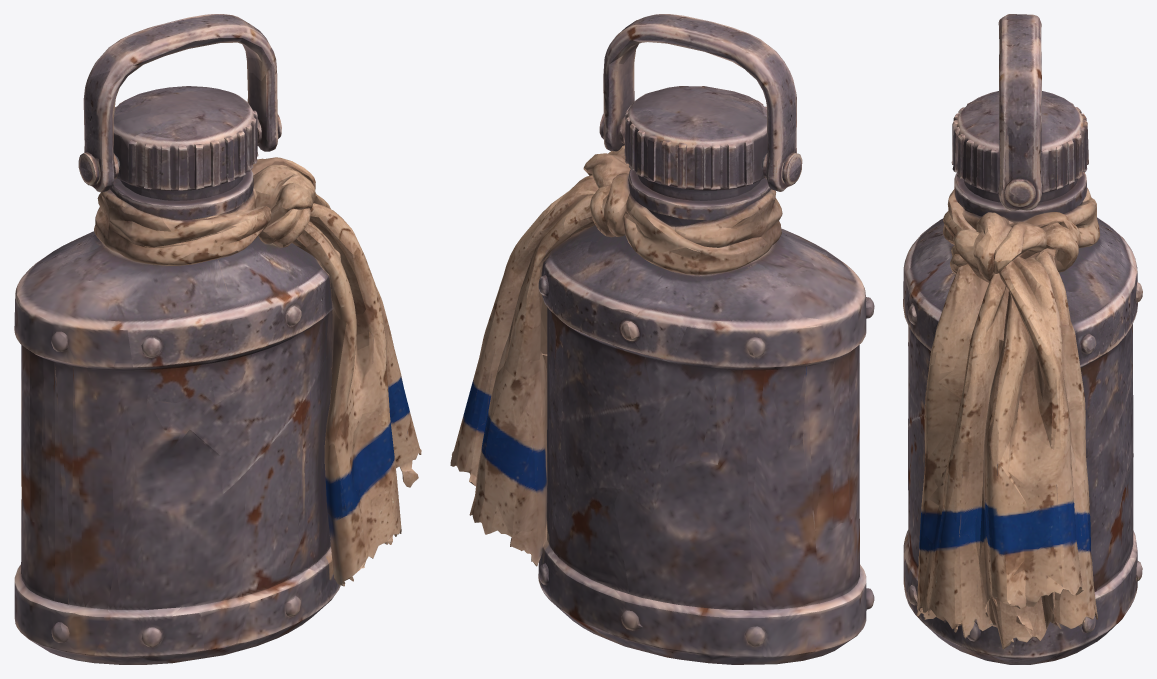
The model's file is canteen.glb.
The picture shows the model from 3 angles, left to right: view 1: azimuth 30°, elevation 25°; view 2: azimuth 150°, elevation 25°; view 3: azimuth 270°, elevation 25°; orthographic projection. The views are drawn at different scales.
Parts seen in each view (by area): view 1: Mesh_0; view 2: Mesh_0; view 3: Mesh_0.
Boxes of the visible parts, left/top/right/bottom form: Mesh_0: left=14, top=14, right=421, bottom=664; Mesh_0: left=450, top=14, right=874, bottom=664; Mesh_0: left=903, top=14, right=1142, bottom=664.
Bounding box in the file's own units: 1.32 × 1.9 × 0.7282.
1 material, 1 textured.
